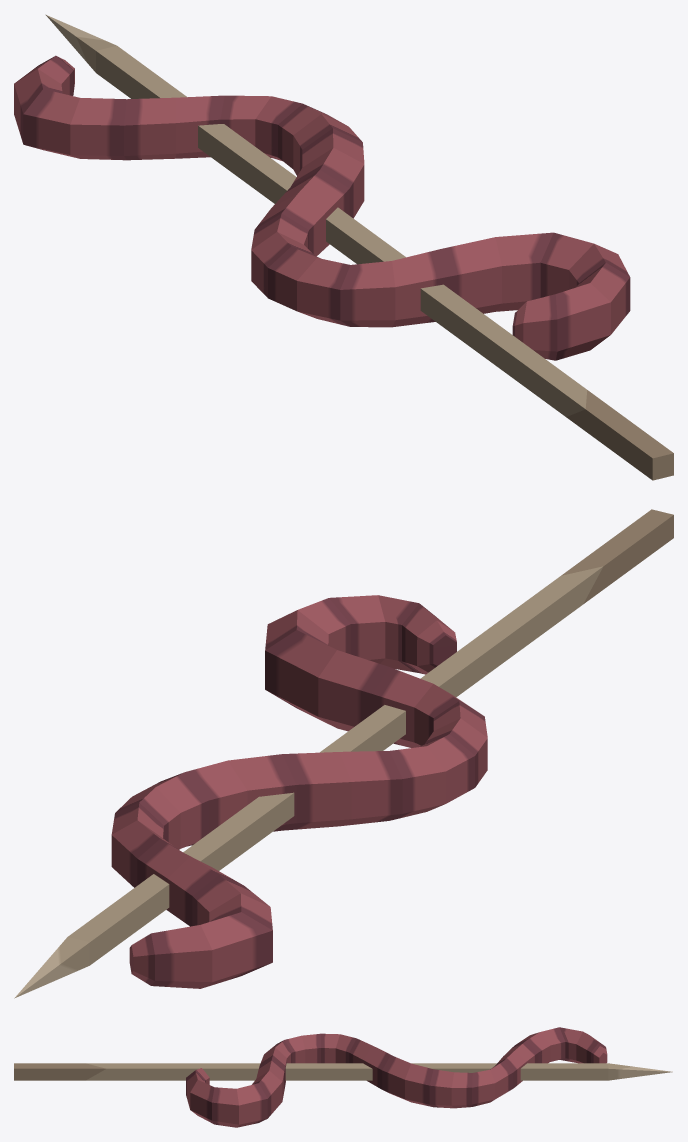
Rendered from SM_Prop_Food_Sticks_04.fbx.
3 renders of one model, top to bottom at view 1: azimuth 30°, elevation 25°; view 2: azimuth 150°, elevation 25°; view 3: azimuth 270°, elevation 25°, orthographic. The views are drawn at different scales.
Visible parts, largest first — view 1: SM_Prop_Food_Sticks_04; view 2: SM_Prop_Food_Sticks_04; view 3: SM_Prop_Food_Sticks_04.
Boxes of the visible parts, <box> form: SM_Prop_Food_Sticks_04: <box>14,14,673,480</box>; SM_Prop_Food_Sticks_04: <box>14,509,673,998</box>; SM_Prop_Food_Sticks_04: <box>14,1027,672,1127</box>.
Bounding box in the file's own units: 16.02 × 3.82 × 57.18.
